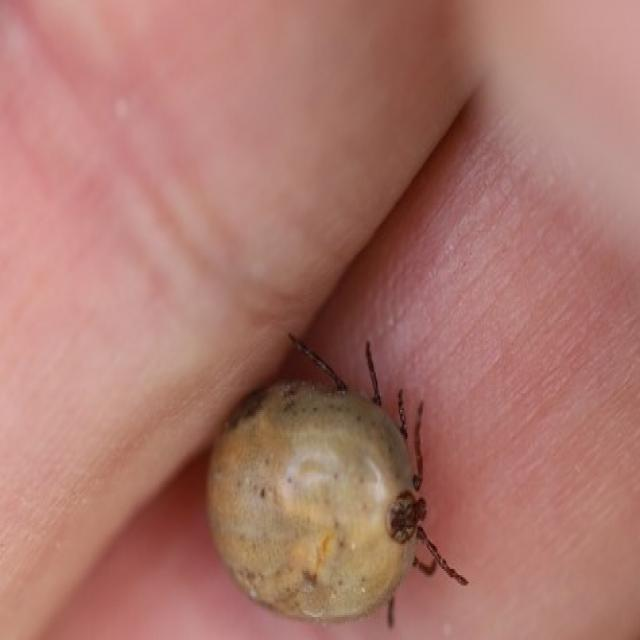Dermacentor Reticulatus-F-Fed: (206, 333, 468, 627)
